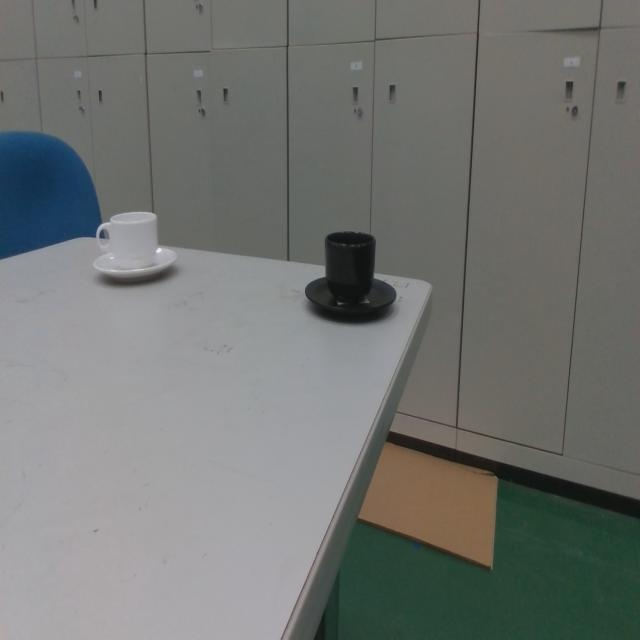black: (302, 230, 401, 324)
white: (89, 202, 179, 288)
